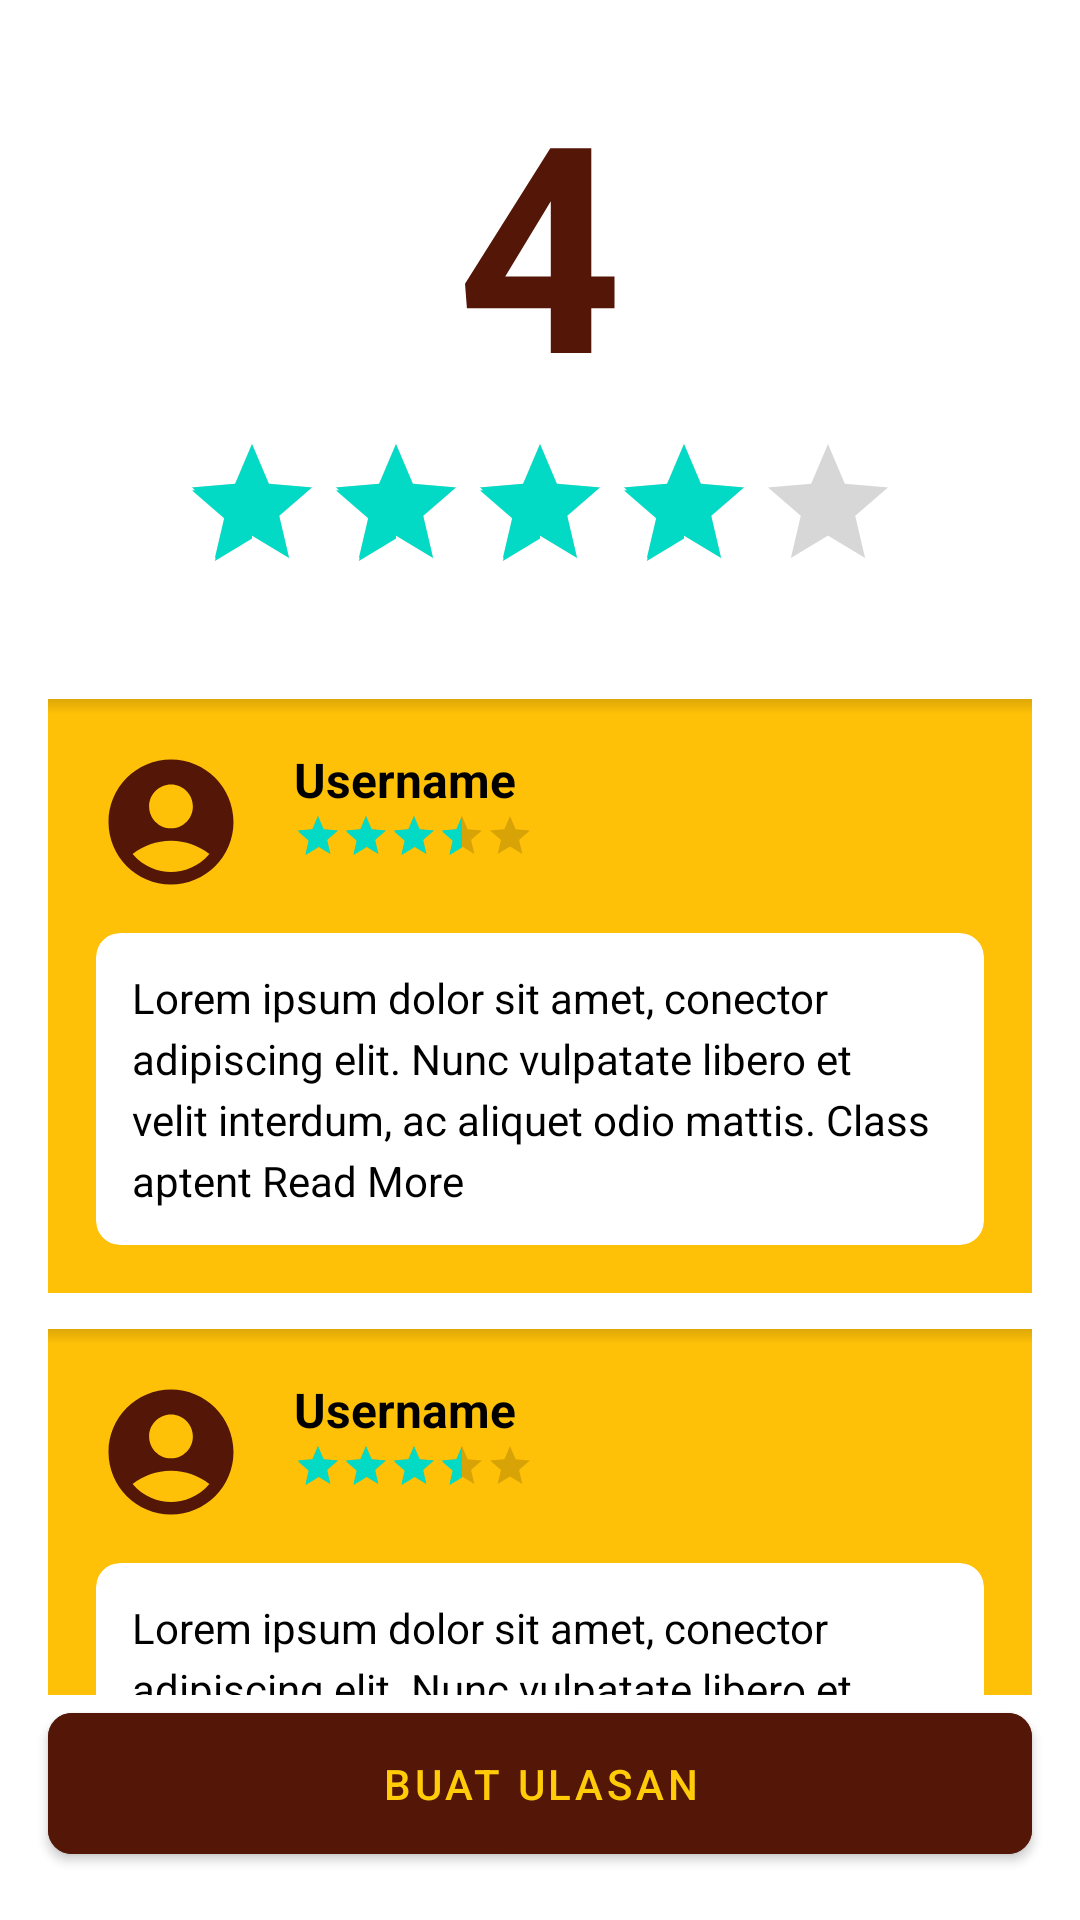

Where to tap for icons on this 1080*1920 app screen, as (x,y):
account circle: (171,822), (171,1452)
